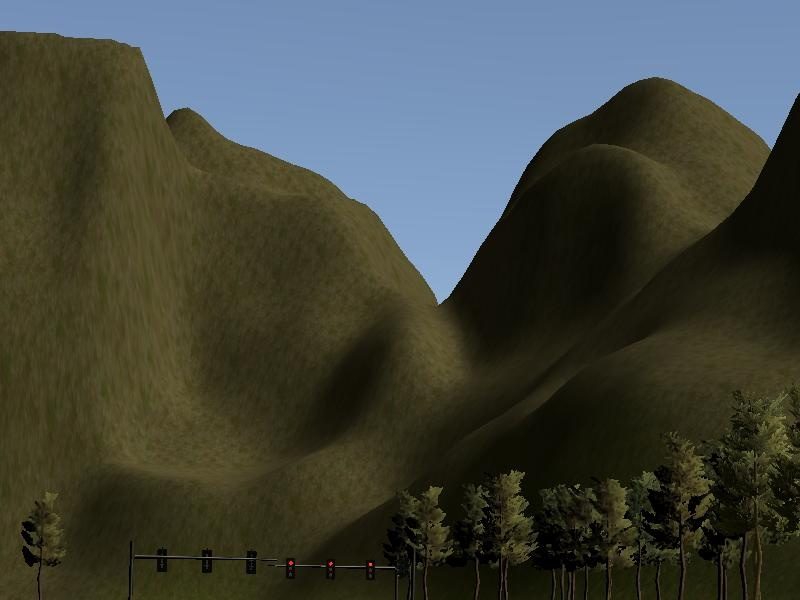red: (365, 558, 375, 582), (326, 558, 336, 581), (285, 559, 295, 581)
